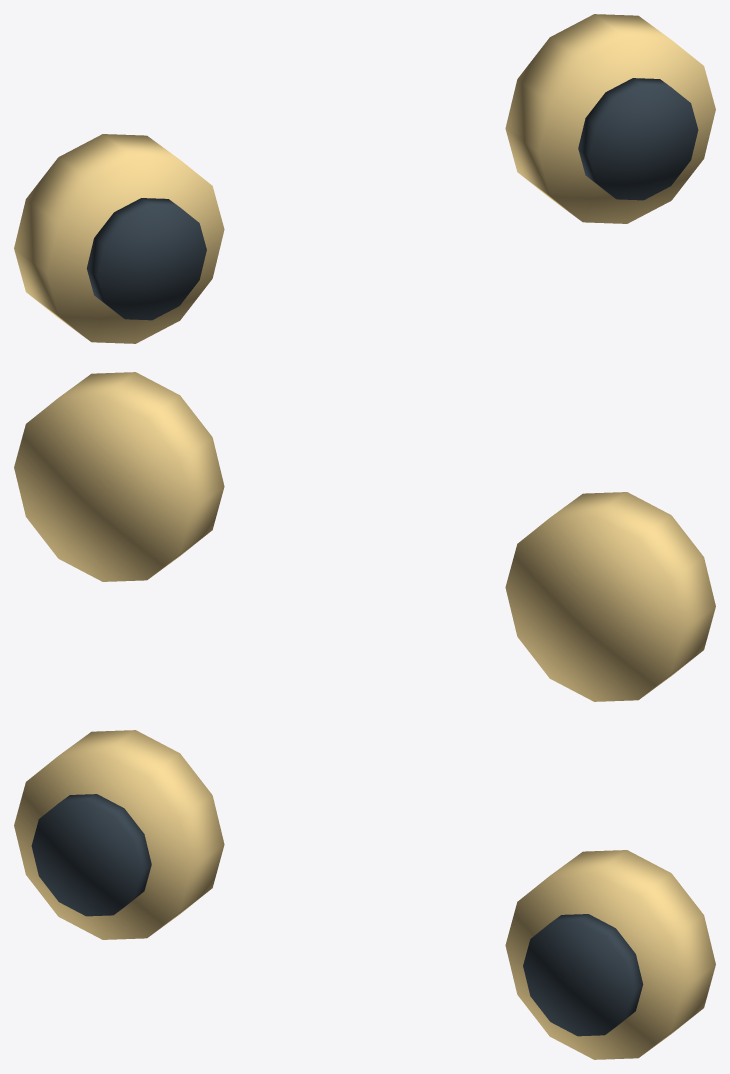
The model's file is 12_L92_LanderSurfaceContactArena.glb.
3 views of the same model, one above another, from view 1: azimuth 30°, elevation 25°; view 2: azimuth 150°, elevation 25°; view 3: azimuth 330°, elevation 25° (orthographic).
Parts seen in each view (by area): view 1: L92_LanderSurfaceContactArena_Part_0003, L92_LanderSurfaceContactArena_Part_0001, L92_LanderSurfaceContactArena_Part_0002, L92_LanderSurfaceContactArena_Part_0004; view 2: L92_LanderSurfaceContactArena_Part_0001, L92_LanderSurfaceContactArena_Part_0003; view 3: L92_LanderSurfaceContactArena_Part_0001, L92_LanderSurfaceContactArena_Part_0003, L92_LanderSurfaceContactArena_Part_0002, L92_LanderSurfaceContactArena_Part_0004.
Boxes of the visible parts, x1,y1,x2,y2 form: L92_LanderSurfaceContactArena_Part_0003: (505, 14, 715, 223); L92_LanderSurfaceContactArena_Part_0001: (14, 134, 224, 343); L92_LanderSurfaceContactArena_Part_0002: (86, 198, 206, 320); L92_LanderSurfaceContactArena_Part_0004: (578, 78, 698, 200); L92_LanderSurfaceContactArena_Part_0001: (505, 492, 715, 701); L92_LanderSurfaceContactArena_Part_0003: (14, 372, 224, 581); L92_LanderSurfaceContactArena_Part_0001: (14, 730, 224, 939); L92_LanderSurfaceContactArena_Part_0003: (505, 850, 715, 1059); L92_LanderSurfaceContactArena_Part_0002: (31, 794, 151, 916); L92_LanderSurfaceContactArena_Part_0004: (523, 914, 643, 1036).
Size of what is drawn, in the model's own units: 0.49 by 0.13 by 0.063.
